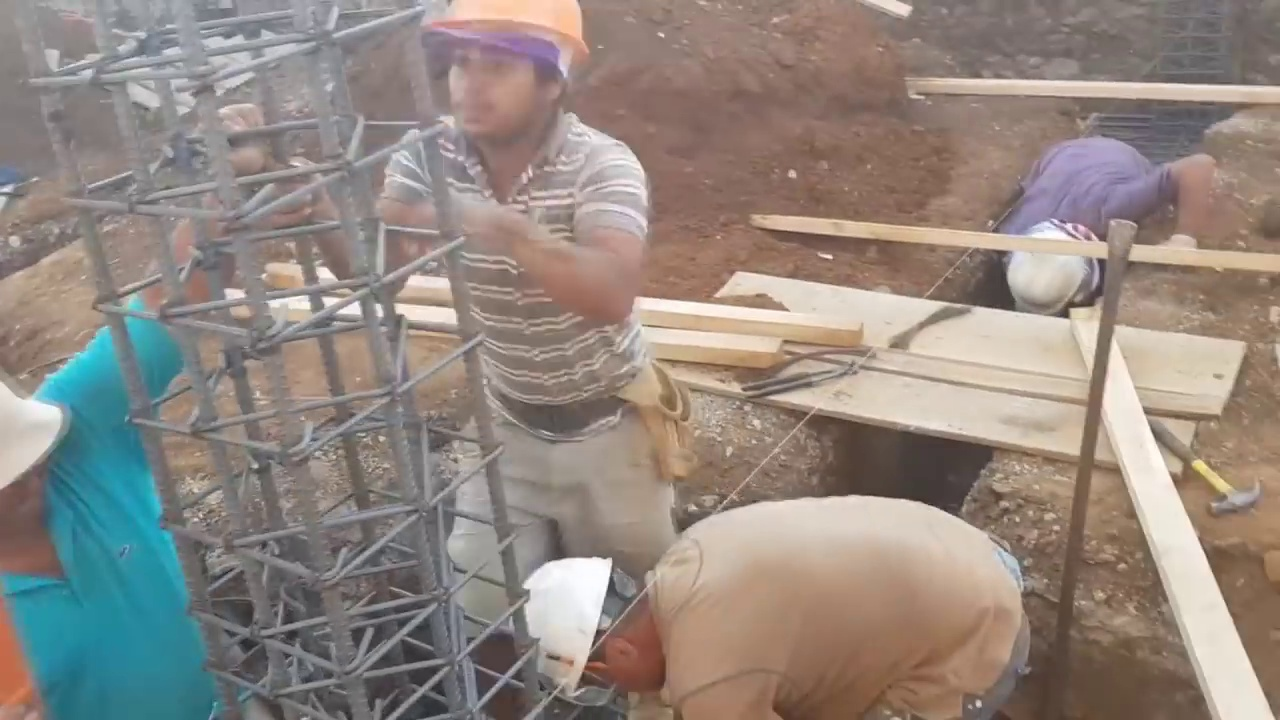helmet: (424, 3, 594, 87), (525, 560, 623, 679), (1003, 231, 1093, 320)
helmet-on: (425, 0, 595, 164), (525, 543, 681, 708), (1006, 207, 1114, 324)
person: (279, 2, 692, 716), (0, 105, 264, 720), (522, 491, 1029, 720), (967, 132, 1220, 341)
